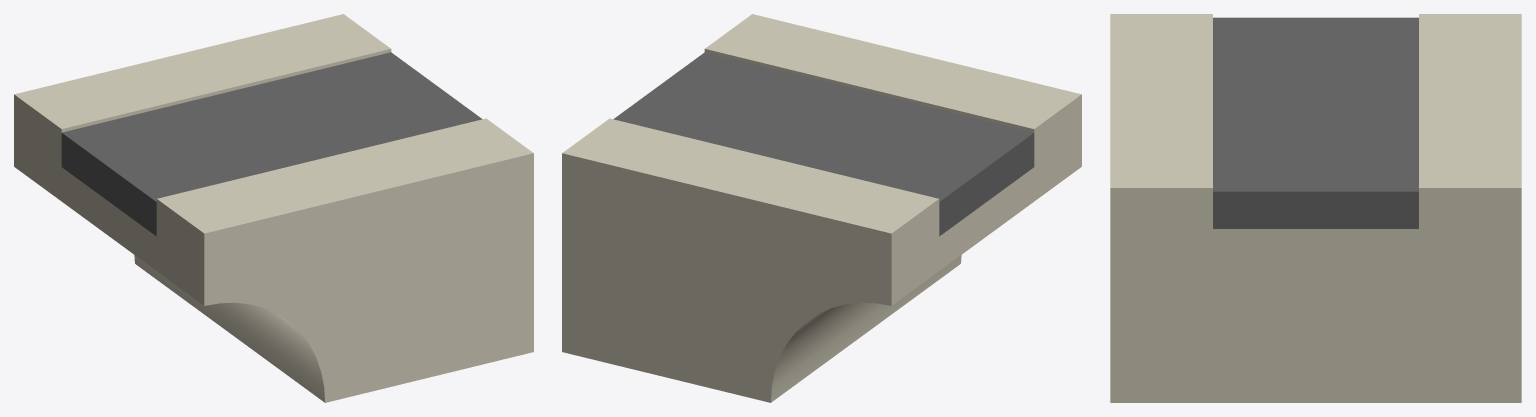
Rendered from roadTile_203.fbx.
3 views of the same model, side by side, from view 1: azimuth 30°, elevation 25°; view 2: azimuth 150°, elevation 25°; view 3: azimuth 270°, elevation 25° (orthographic). The views are drawn at different scales.
Parts seen in each view (by area): view 1: roadTile_203; view 2: roadTile_203; view 3: roadTile_203.
Part boxes in pixels (left/top/right/bottom): roadTile_203: left=14, top=14, right=533, bottom=402; roadTile_203: left=562, top=14, right=1081, bottom=402; roadTile_203: left=1110, top=14, right=1521, bottom=402.
Bounding box in the file's own units: 118 × 68.11 × 118.
